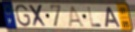7: (50, 4, 63, 29)
A: (67, 5, 86, 28), (104, 6, 122, 28)
G: (14, 4, 32, 28)
L: (87, 6, 103, 28)
X: (28, 4, 48, 28)
